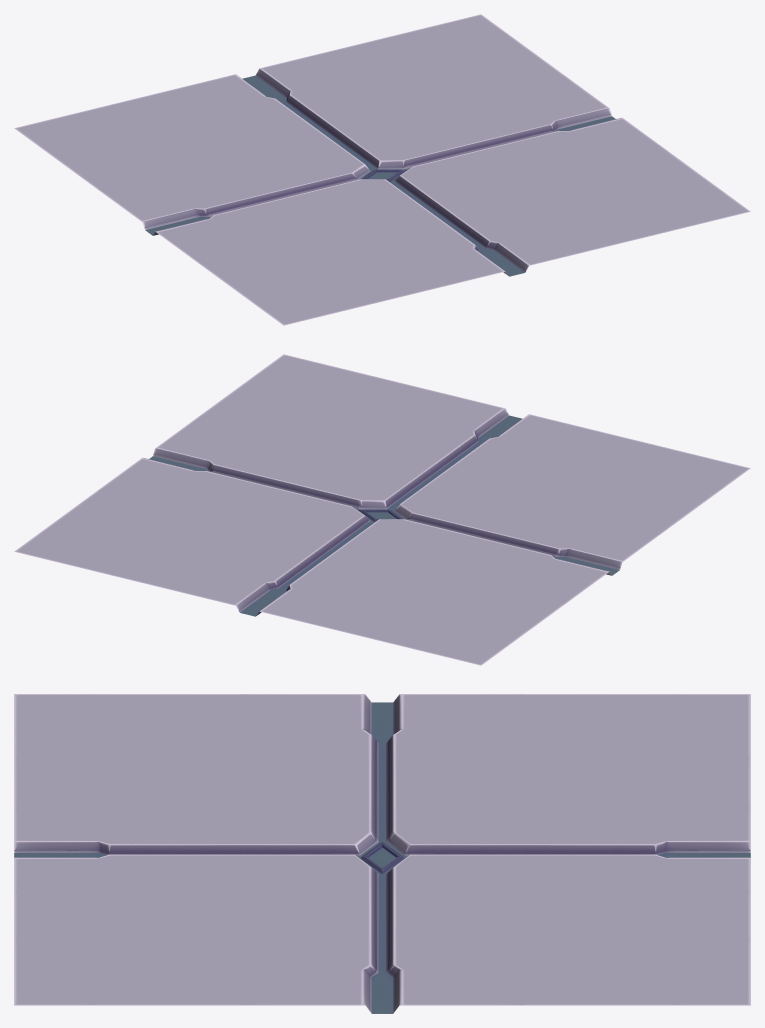
File: celling3_low.fbx
3 renders of one model, top to bottom at view 1: azimuth 30°, elevation 25°; view 2: azimuth 150°, elevation 25°; view 3: azimuth 270°, elevation 25°, orthographic. The views are drawn at different scales.
Parts seen in each view (by area): view 1: celling3_low; view 2: celling3_low; view 3: celling3_low.
Boxes of the visible parts, x1,y1,x2,y2 form: celling3_low: (14, 14, 750, 325); celling3_low: (14, 354, 750, 665); celling3_low: (14, 694, 750, 1013).
Bounding box in the file's own units: 1500 × 18.76 × 1500.
